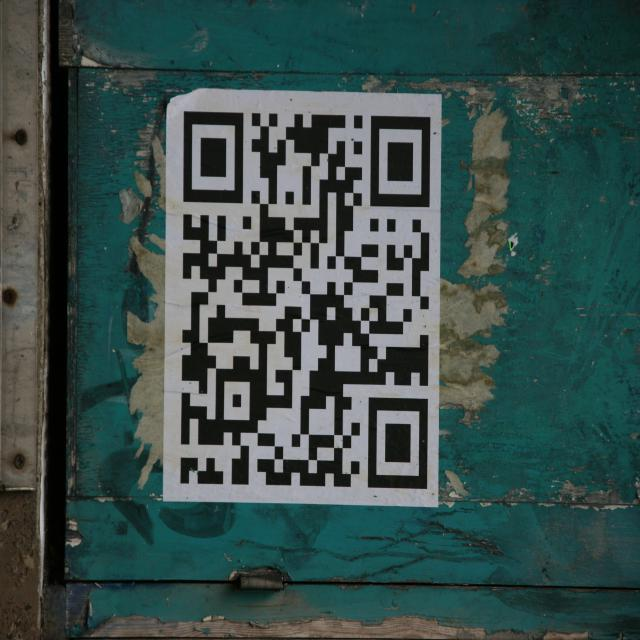qrcode: (182, 112, 432, 490)
